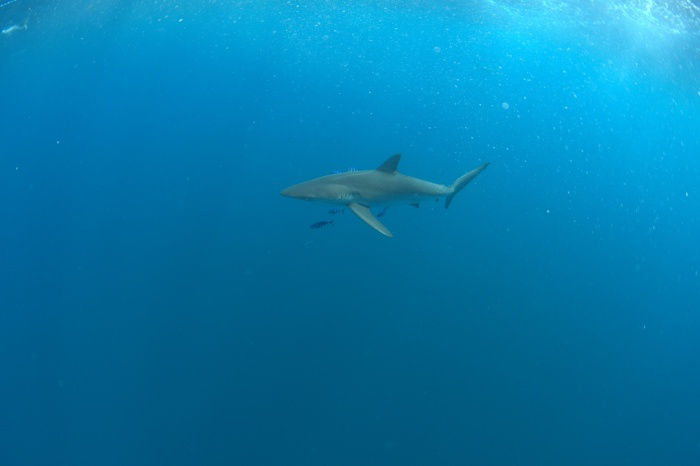Sedoso: (267, 145, 509, 245)
